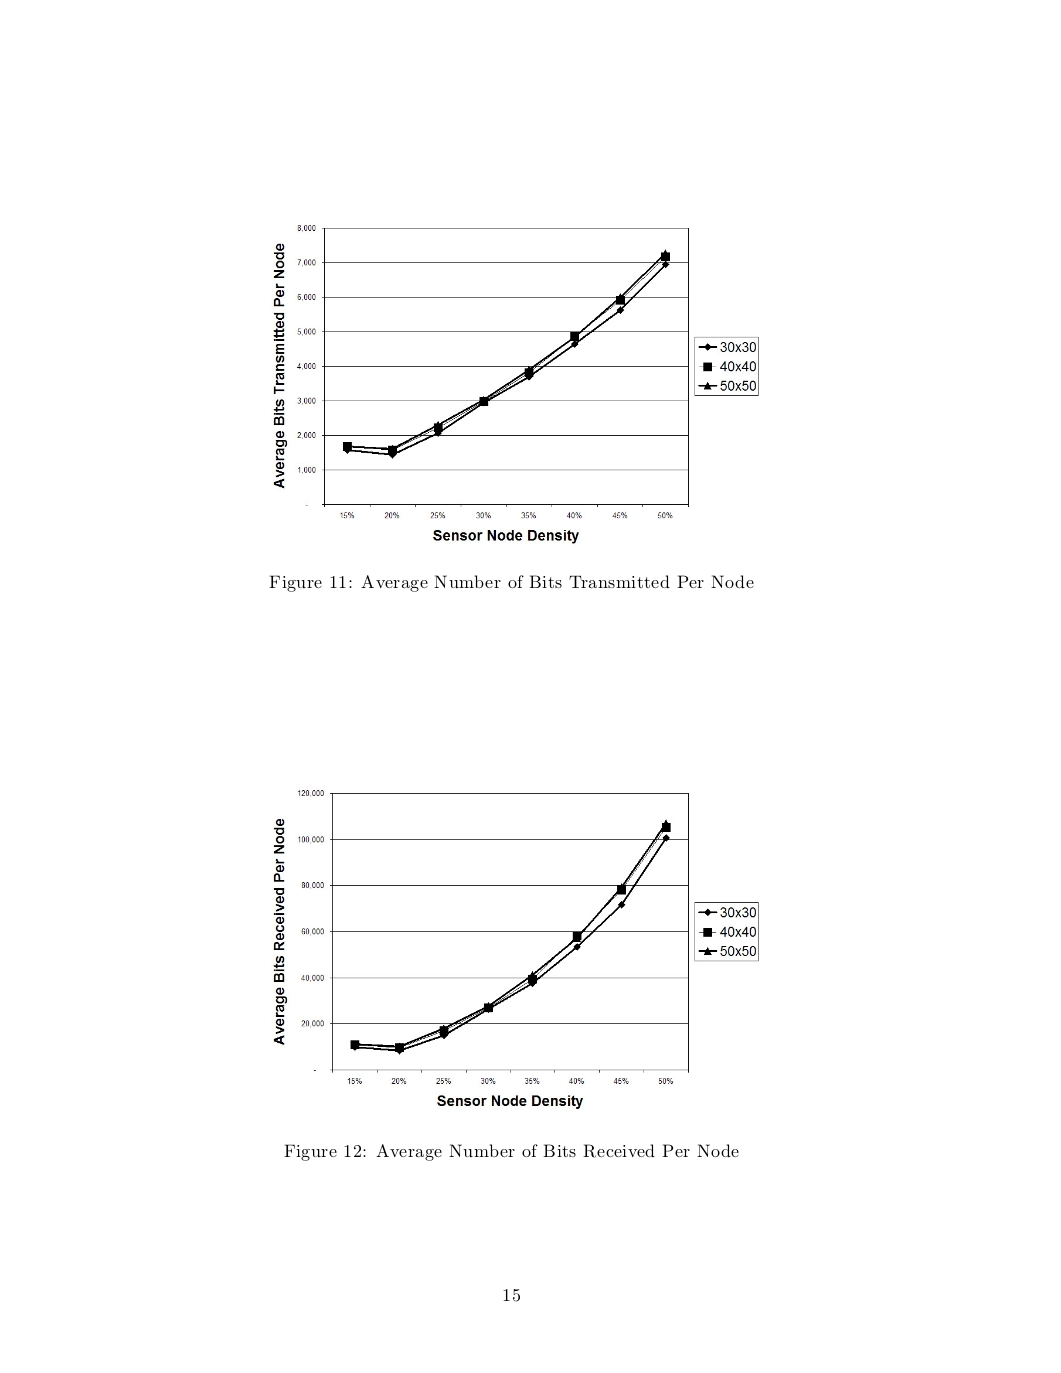figure: (273, 225, 758, 543), (273, 790, 758, 1108)
